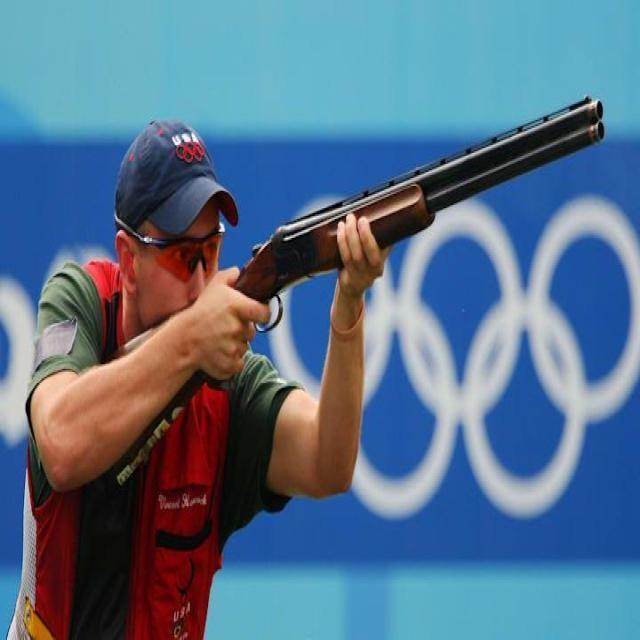Rifle: (105, 93, 607, 497)
